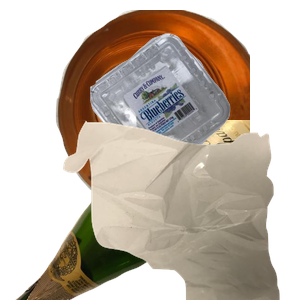glass: (13, 120, 253, 300)
metal: (53, 10, 293, 190)
plastic: (88, 31, 300, 198)
trash: (61, 120, 300, 300)
